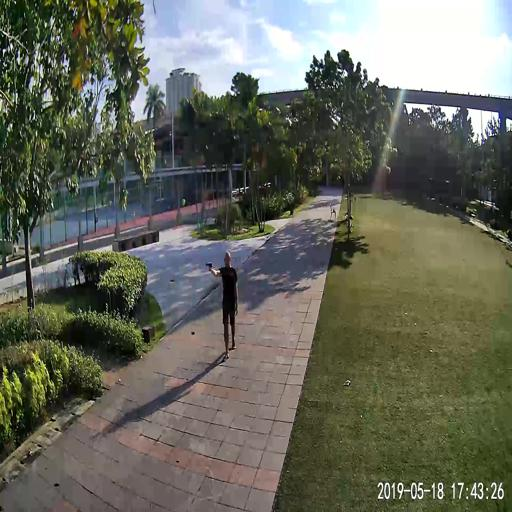pistol: (204, 260, 213, 269)
